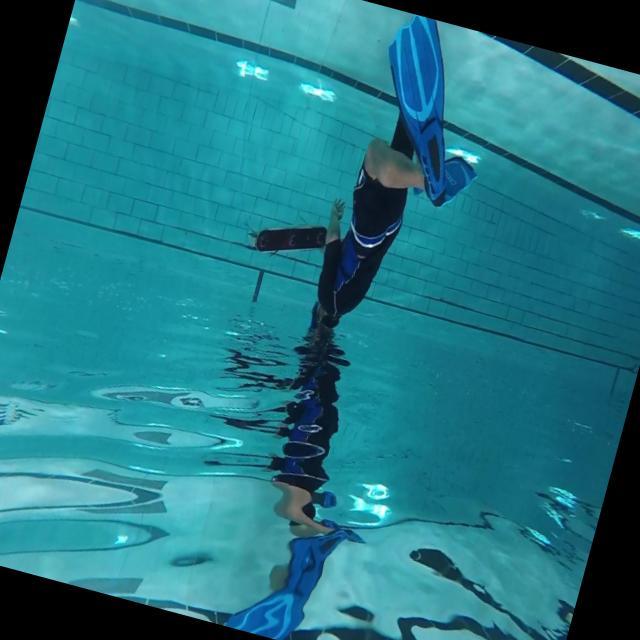human: (298, 98, 432, 349)
